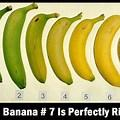banana: (2, 9, 29, 96), (43, 13, 71, 90), (93, 13, 120, 88), (68, 9, 95, 82), (27, 12, 48, 83)
